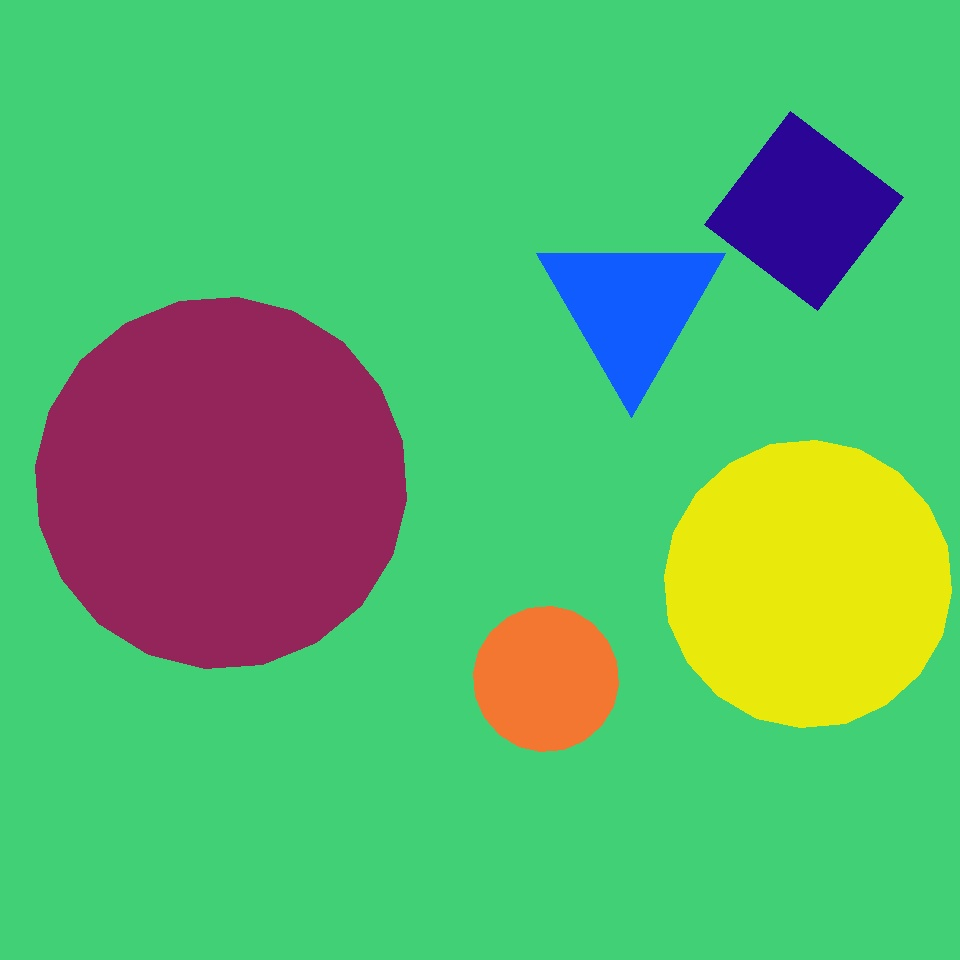circle: (510, 100, 796, 415), (547, 501, 739, 708), (537, 226, 726, 390), (153, 718, 312, 860)
square: (704, 111, 904, 310)
triangle: (35, 298, 406, 668), (664, 440, 952, 728), (474, 606, 618, 752)
